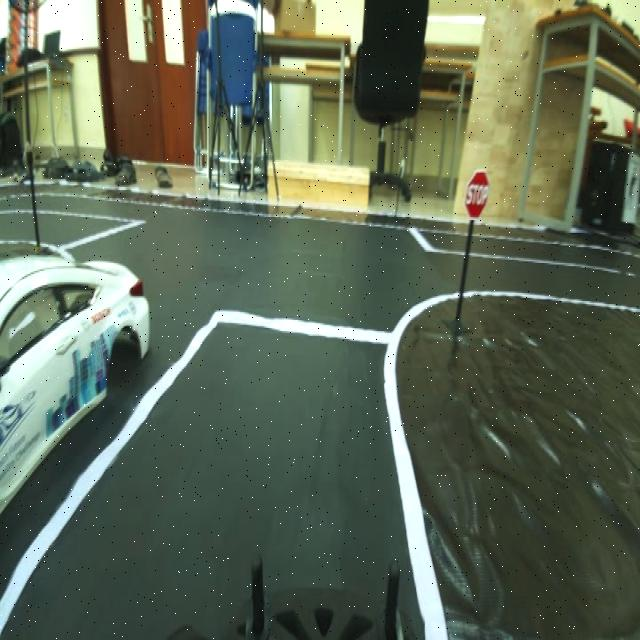car: (4, 242, 145, 537)
stop: (467, 164, 498, 234)
